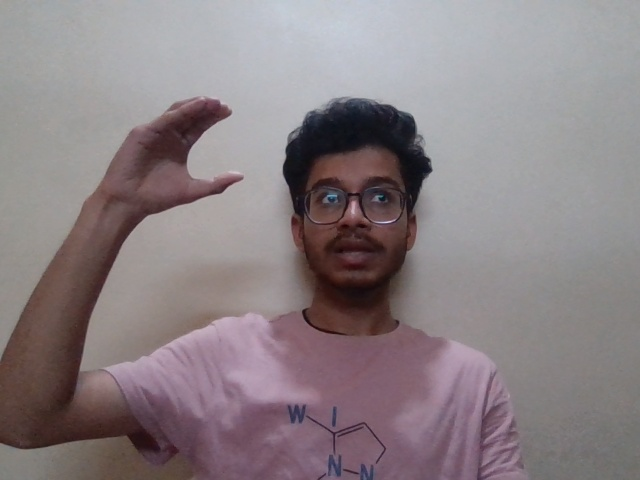C: (84, 93, 252, 228)
